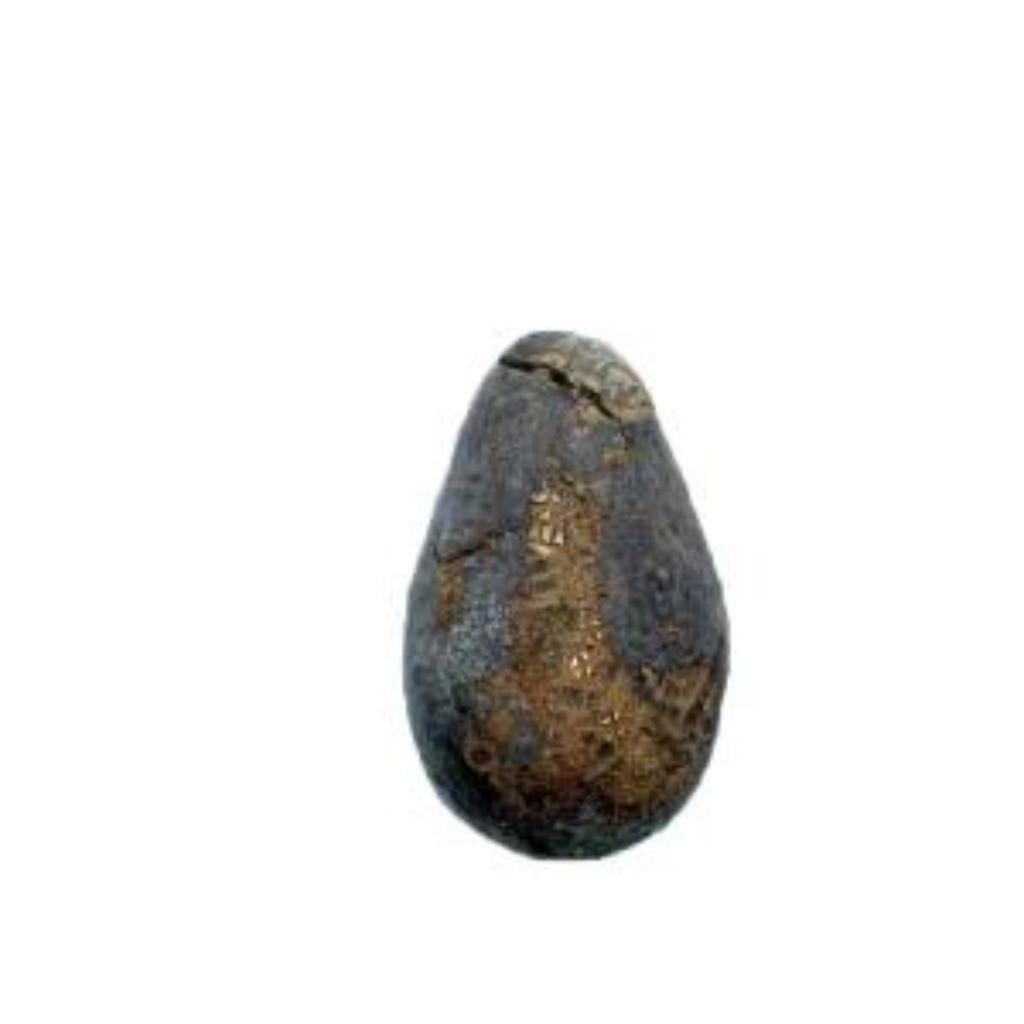cercospora_spot: (348, 319, 782, 879)
